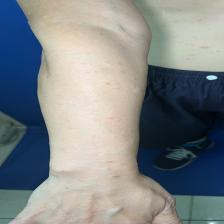DA: (64, 111, 133, 173), (62, 53, 140, 97)
